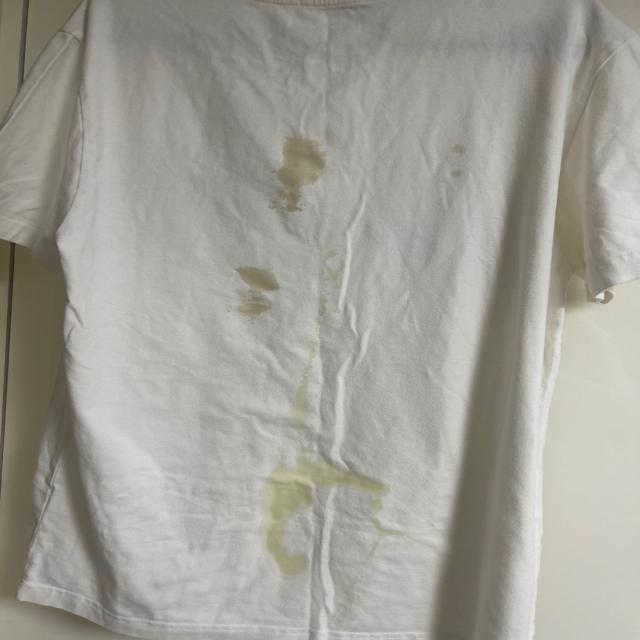stain: (258, 462, 342, 546), (274, 133, 329, 219), (290, 344, 328, 426), (233, 256, 279, 318), (309, 251, 346, 319), (268, 549, 312, 581), (352, 470, 397, 500), (346, 491, 388, 517), (368, 521, 403, 551), (448, 138, 472, 180), (332, 583, 358, 620)
